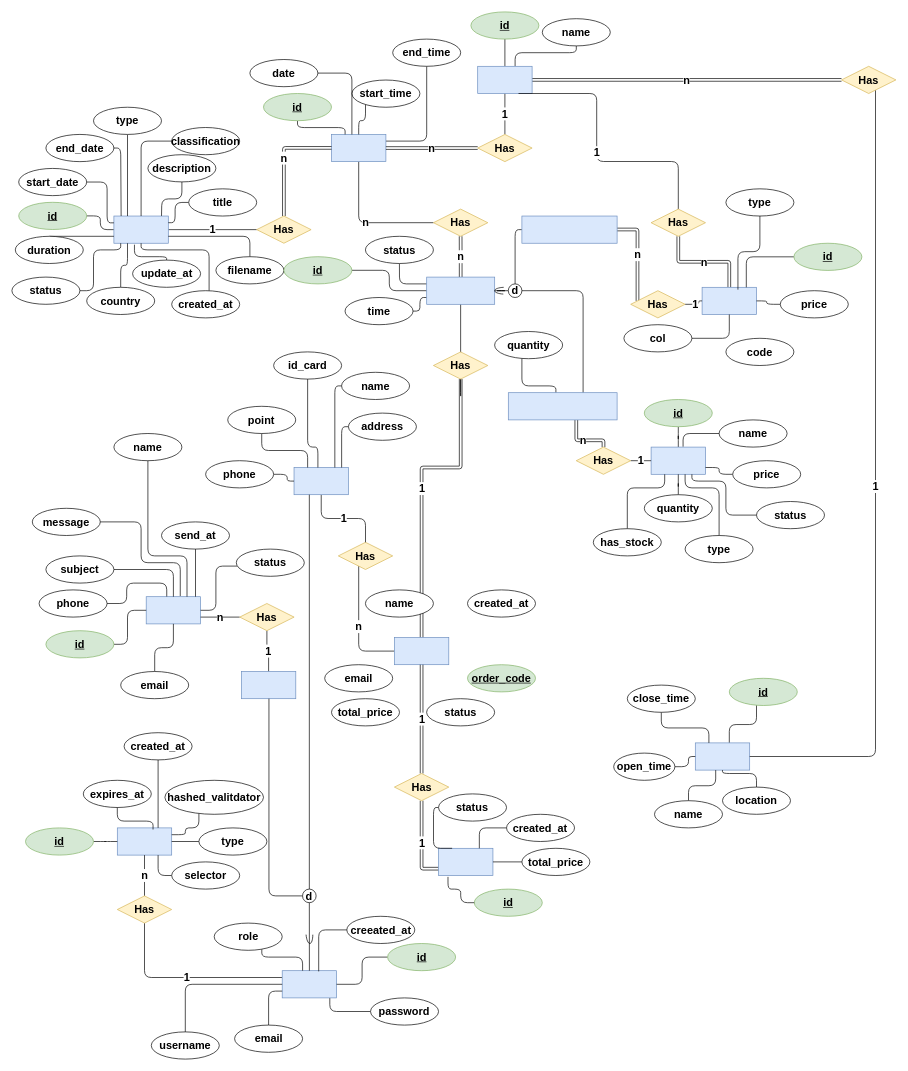
Some shapes in this 908 by 1071 pixel diagram are drawn without their labels. The shapes that lost their labels are listed below. From the top down, each one's box as (x1, y1, x2, y2) in pixels, then its label:
(477, 66, 532, 94): Room
(331, 134, 386, 162): ShowTime
(113, 215, 168, 243): Media
(521, 215, 617, 243): OrderDetail_ticket
(426, 276, 495, 304): OrderDetail
(701, 287, 756, 314): Seat
(508, 392, 617, 420): OrderDetail_product
(650, 446, 706, 474): Product
(293, 467, 348, 495): Customer
(146, 596, 201, 624): contact
(394, 637, 449, 665): Order
(241, 671, 296, 699): Admin
(695, 742, 750, 770): Cinema
(117, 827, 172, 855): user_token
(438, 848, 493, 876): Payment
(282, 970, 337, 998): User
